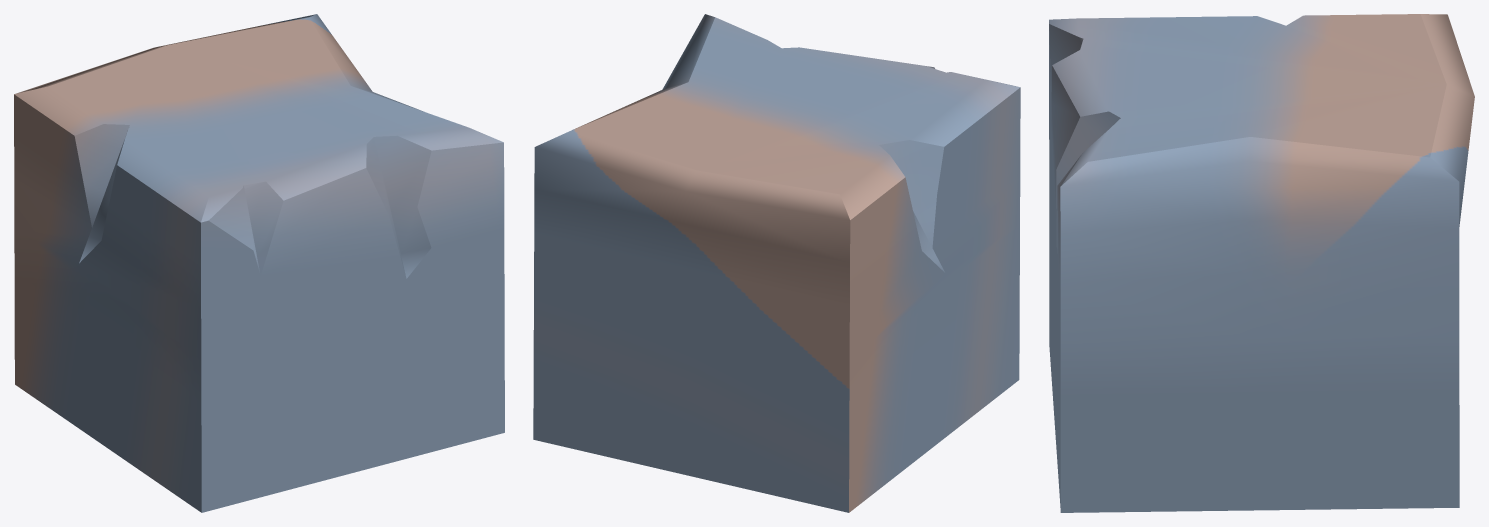
The model's file is Map2Boxextend2.fbx.
3 views of the same model, side by side, from view 1: azimuth 30°, elevation 25°; view 2: azimuth 150°, elevation 25°; view 3: azimuth 270°, elevation 25° (orthographic). The views are drawn at different scales.
Visible parts, largest first — view 1: polySurface117; view 2: polySurface117; view 3: polySurface117.
Part boxes in pixels (x1,y1,x2,y2): polySurface117: [14, 14, 504, 512]; polySurface117: [533, 14, 1020, 512]; polySurface117: [1049, 14, 1474, 512].
Bounding box in the file's own units: 9.62 × 8.37 × 9.51.
